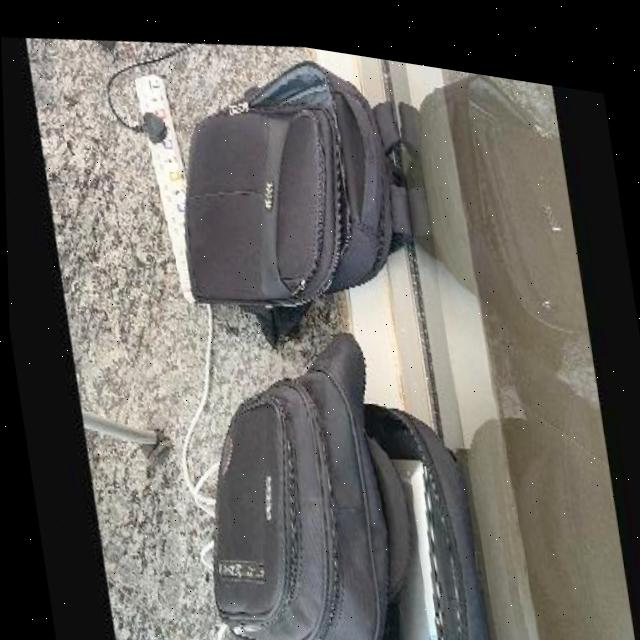canta: (161, 283, 492, 640), (151, 19, 431, 367)
